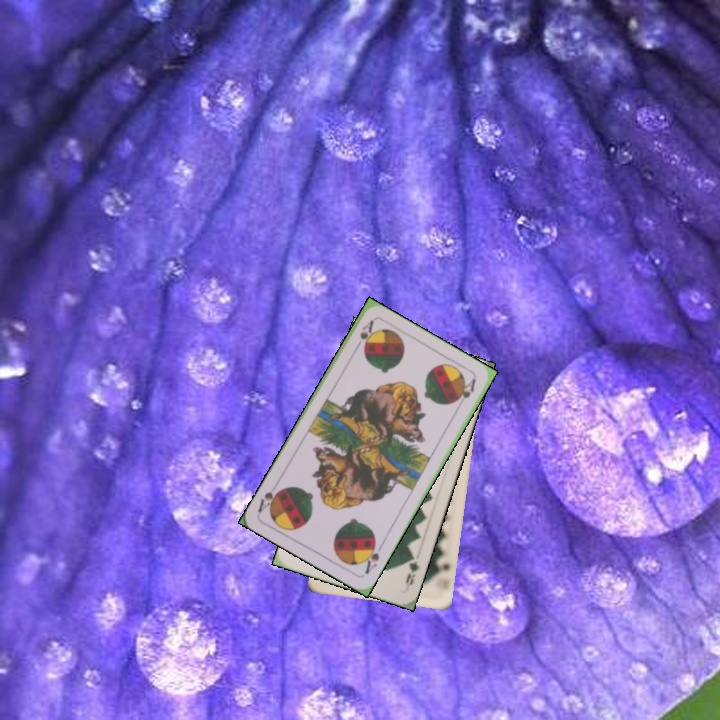G10: (432, 553, 452, 578)
G9: (401, 550, 422, 592)
SA: (359, 537, 385, 577), (350, 316, 377, 354)
